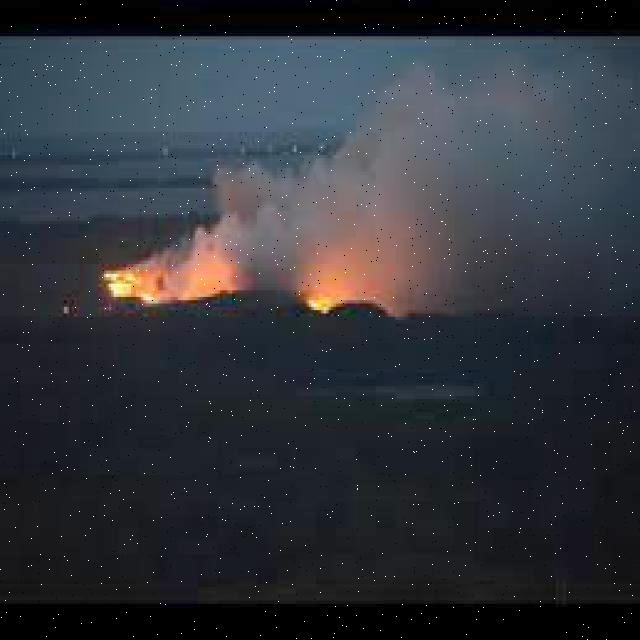fire: (100, 262, 212, 304), (306, 288, 352, 324)
smoke: (207, 53, 640, 310)
